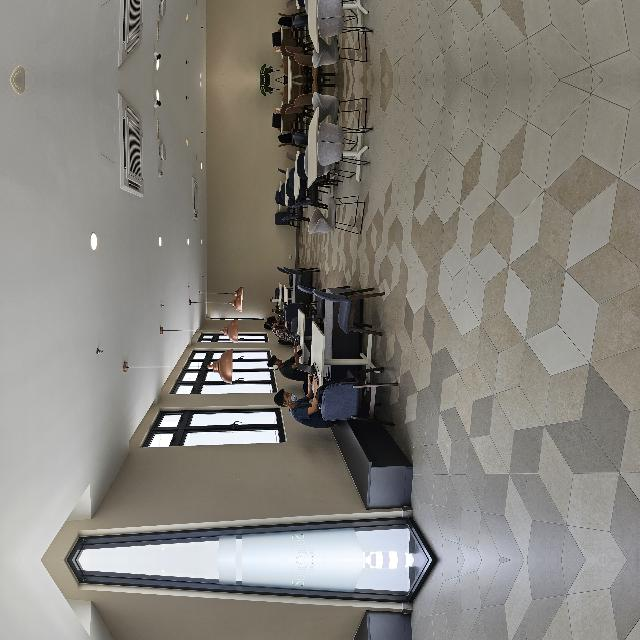obstacle: (48, 406, 282, 494), (320, 376, 466, 454), (48, 625, 281, 640)
person: (130, 353, 190, 409)
